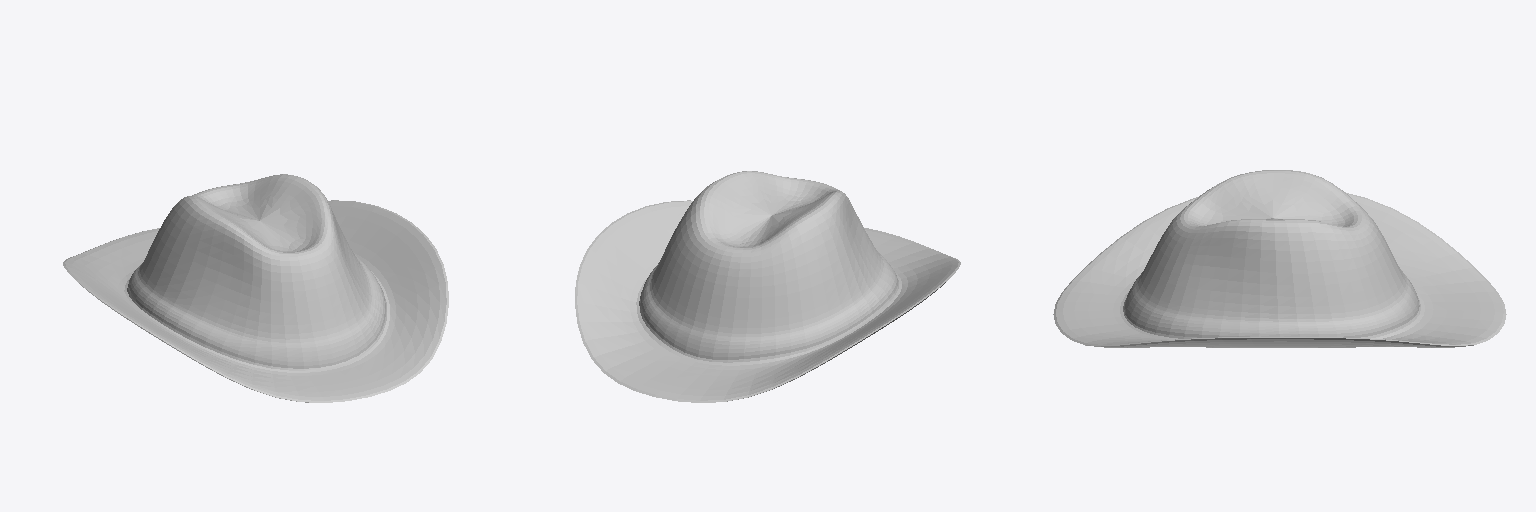
File: fedora.obj
3 renders of one model, left to right at view 1: azimuth 30°, elevation 25°; view 2: azimuth 150°, elevation 25°; view 3: azimuth 270°, elevation 25°, orthographic.
Parts seen in each view (by area): view 1: fedorochka_Cylinder.001, fedorochka.001_Cylinder; view 2: fedorochka_Cylinder.001, fedorochka.001_Cylinder; view 3: fedorochka_Cylinder.001, fedorochka.001_Cylinder.
Boxes of the visible parts, box(x1,y1,x2,y2) form: fedorochka_Cylinder.001: box(63, 174, 448, 402); fedorochka.001_Cylinder: box(65, 182, 440, 396); fedorochka_Cylinder.001: box(575, 171, 960, 402); fedorochka.001_Cylinder: box(575, 171, 950, 395); fedorochka_Cylinder.001: box(1053, 170, 1506, 347); fedorochka.001_Cylinder: box(1058, 171, 1503, 347).
Bounding box in the file's own units: 1.78 × 0.6568 × 2.24.